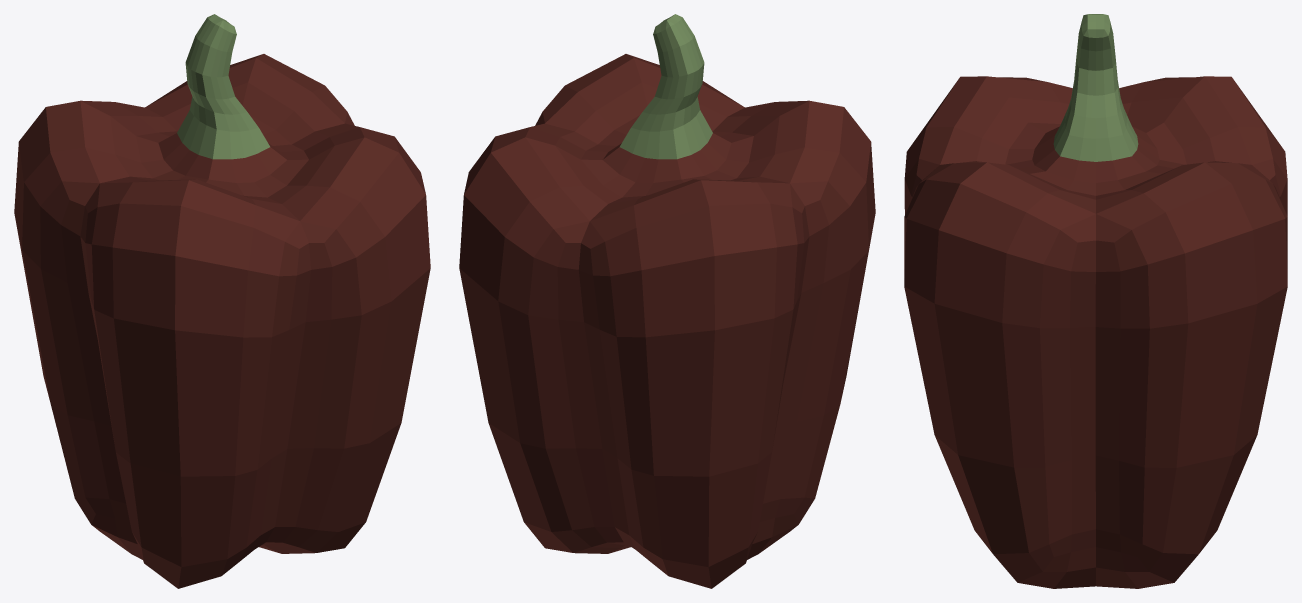
Rendered from food-Pepper_Red.glb.
3 views of the same model, side by side, from view 1: azimuth 30°, elevation 25°; view 2: azimuth 150°, elevation 25°; view 3: azimuth 270°, elevation 25° (orthographic).
Parts seen in each view (by area): view 1: Pepper_Red; view 2: Pepper_Red; view 3: Pepper_Red.
Boxes of the visible parts, box(x1,y1,x2,y2) form: Pepper_Red: box(14, 14, 430, 588); Pepper_Red: box(459, 14, 875, 588); Pepper_Red: box(904, 14, 1287, 588).
Bounding box in the file's own units: 0.674 × 1.11 × 0.7118.
